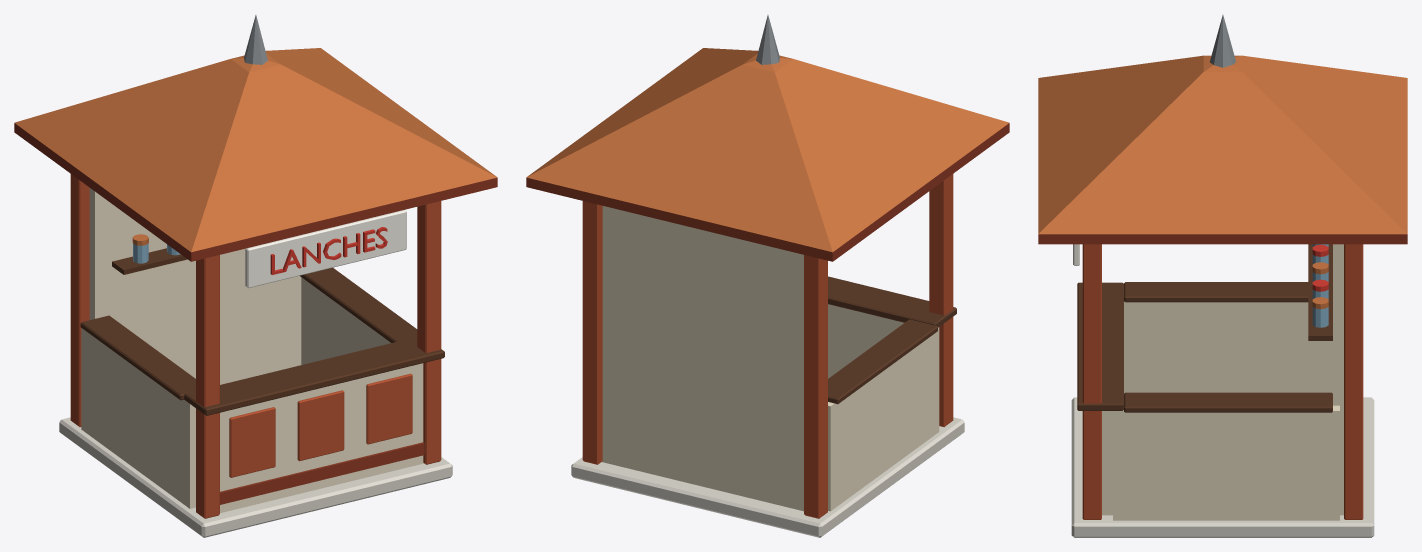
Rendered from quiosque.glb.
3 renders of one model, left to right at view 1: azimuth 30°, elevation 25°; view 2: azimuth 150°, elevation 25°; view 3: azimuth 270°, elevation 25°, orthographic. The views are drawn at different scales.
Parts seen in each view (by area): view 1: quiosque; view 2: quiosque; view 3: quiosque.
Part boxes in pixels (bbox=[...]): quiosque: bbox=[14, 15, 497, 537]; quiosque: bbox=[526, 15, 1009, 537]; quiosque: bbox=[1038, 15, 1407, 537].
Bounding box in the file's own units: 2.69 × 3.7 × 2.69.
